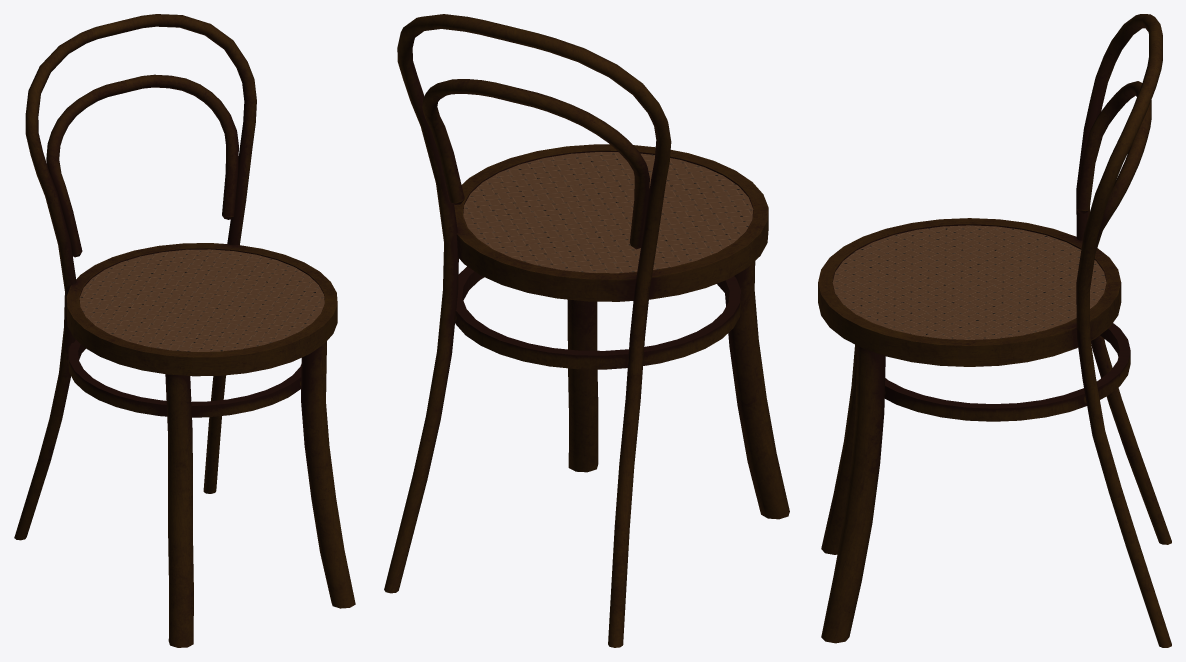
File: thonet-14.glb
3 renders of one model, left to right at view 1: azimuth 30°, elevation 25°; view 2: azimuth 150°, elevation 25°; view 3: azimuth 270°, elevation 25°, orthographic. The views are drawn at different scales.
Parts seen in each view (by area): view 1: Cylinder001, Tube005, Loft037__0, Loft048__0, Loft025__0, Loft046__0, Tube004, Loft047__0, Loft039__0; view 2: Cylinder001, Tube005, Loft037__0, Loft046__0, Loft048__0, Tube004, Loft025__0, Loft039__0, Loft047__0; view 3: Cylinder001, Tube005, Loft046__0, Loft025__0, Loft037__0, Tube004, Loft048__0, Loft039__0, Loft047__0.
Boxes of the visible parts, x1,y1,x2,y2 form: Cylinder001: (79, 249, 324, 351); Tube005: (66, 243, 337, 376); Loft037__0: (14, 21, 122, 540); Loft048__0: (165, 374, 193, 647); Loft025__0: (301, 341, 355, 608); Loft046__0: (119, 14, 256, 493); Tube004: (68, 339, 301, 417); Loft047__0: (124, 74, 238, 219); Loft039__0: (46, 80, 127, 257); Cylinder001: (463, 152, 753, 273); Tube005: (454, 144, 768, 301); Loft037__0: (505, 26, 671, 647); Loft046__0: (384, 14, 510, 593); Loft048__0: (725, 261, 789, 519); Tube004: (455, 266, 740, 369); Loft025__0: (567, 299, 598, 472); Loft039__0: (511, 87, 649, 249); Loft047__0: (422, 79, 515, 204); Cylinder001: (832, 225, 1106, 339); Tube005: (818, 218, 1121, 366); Loft046__0: (1076, 40, 1171, 647); Loft025__0: (821, 345, 885, 643); Loft037__0: (1076, 14, 1171, 544); Tube004: (856, 323, 1130, 421); Loft048__0: (821, 344, 856, 554); Loft039__0: (1076, 81, 1151, 213); Loft047__0: (1090, 104, 1151, 288).
Size of the model in its own units: 0.5729 by 1.15 by 0.6687.
1 material, 1 textured.
